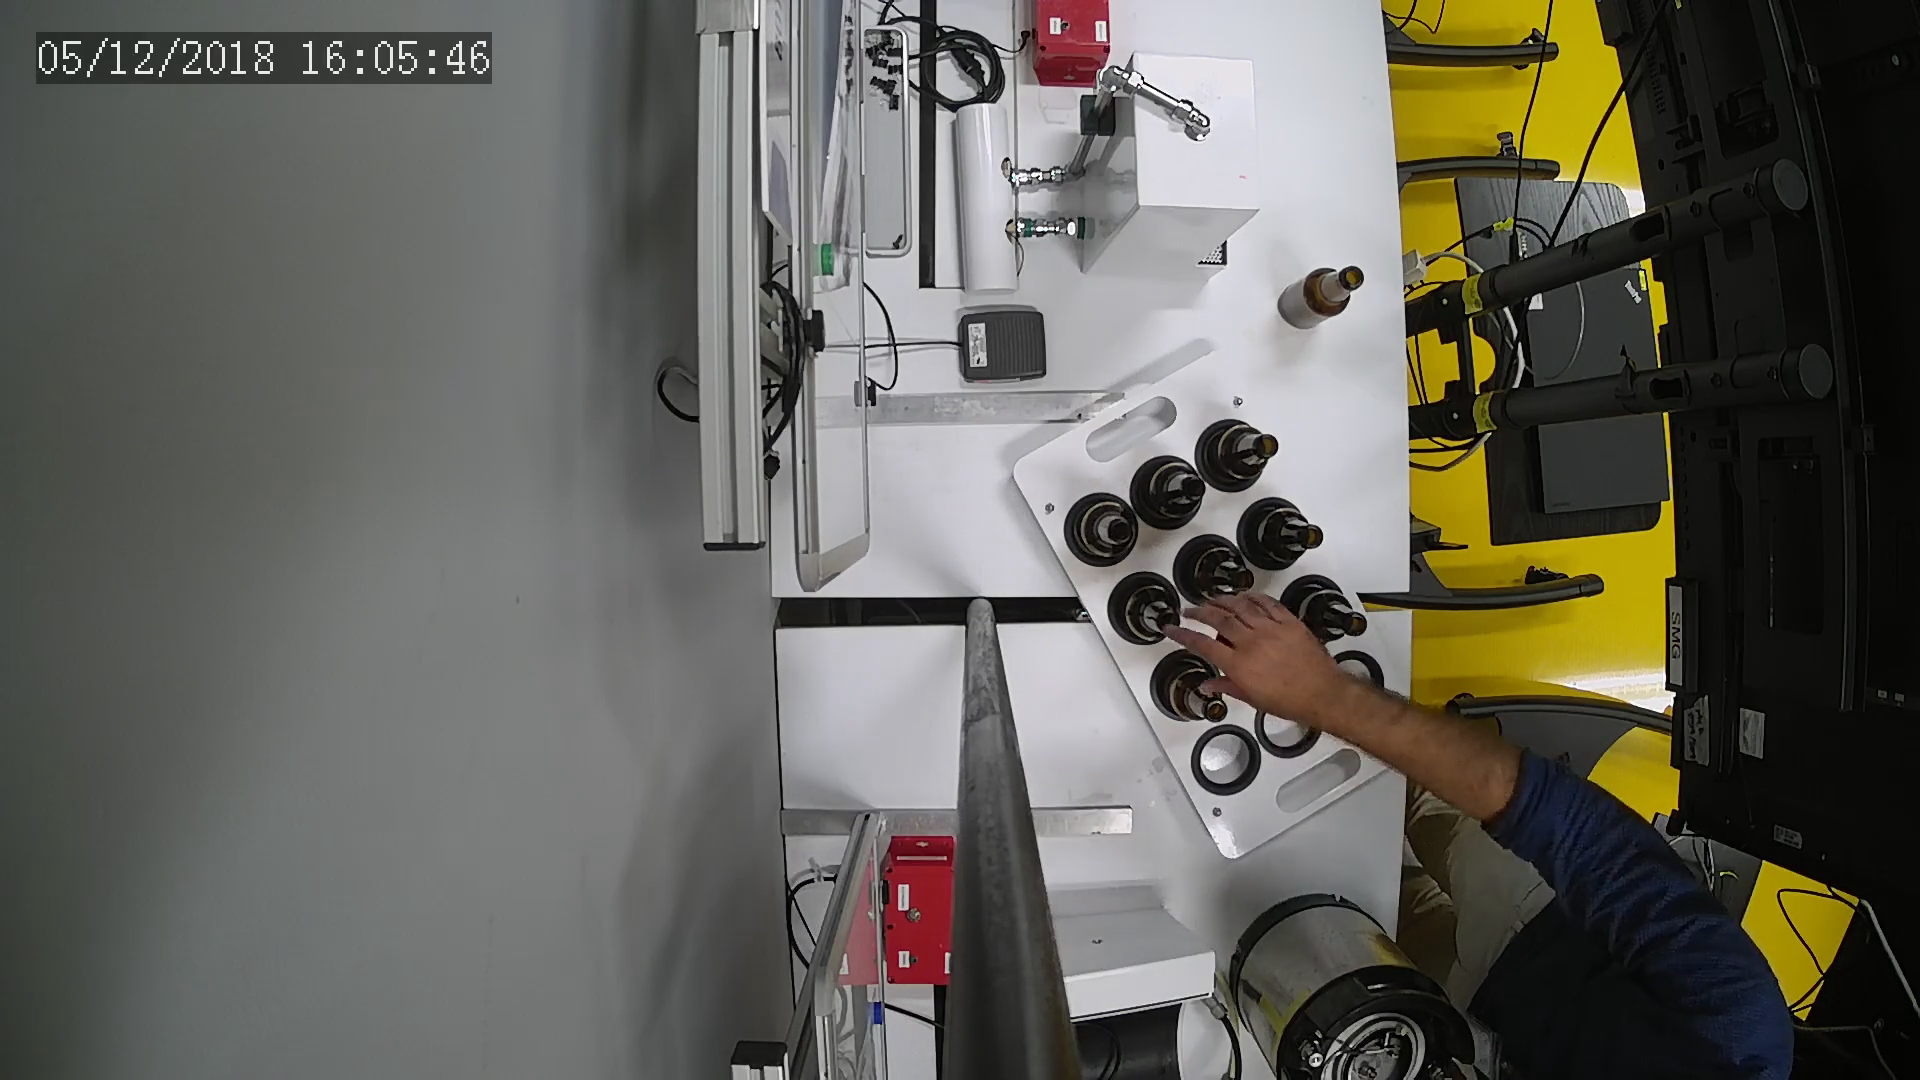filled_bottle: (1236, 495, 1331, 580), (1147, 649, 1233, 736), (1104, 570, 1191, 653), (1193, 418, 1287, 493), (1127, 451, 1211, 535), (1283, 572, 1374, 649), (1174, 535, 1262, 613), (1065, 487, 1139, 572)
trolley: (1014, 343, 1431, 861)
unfilled_bottle: (1273, 262, 1364, 338)
